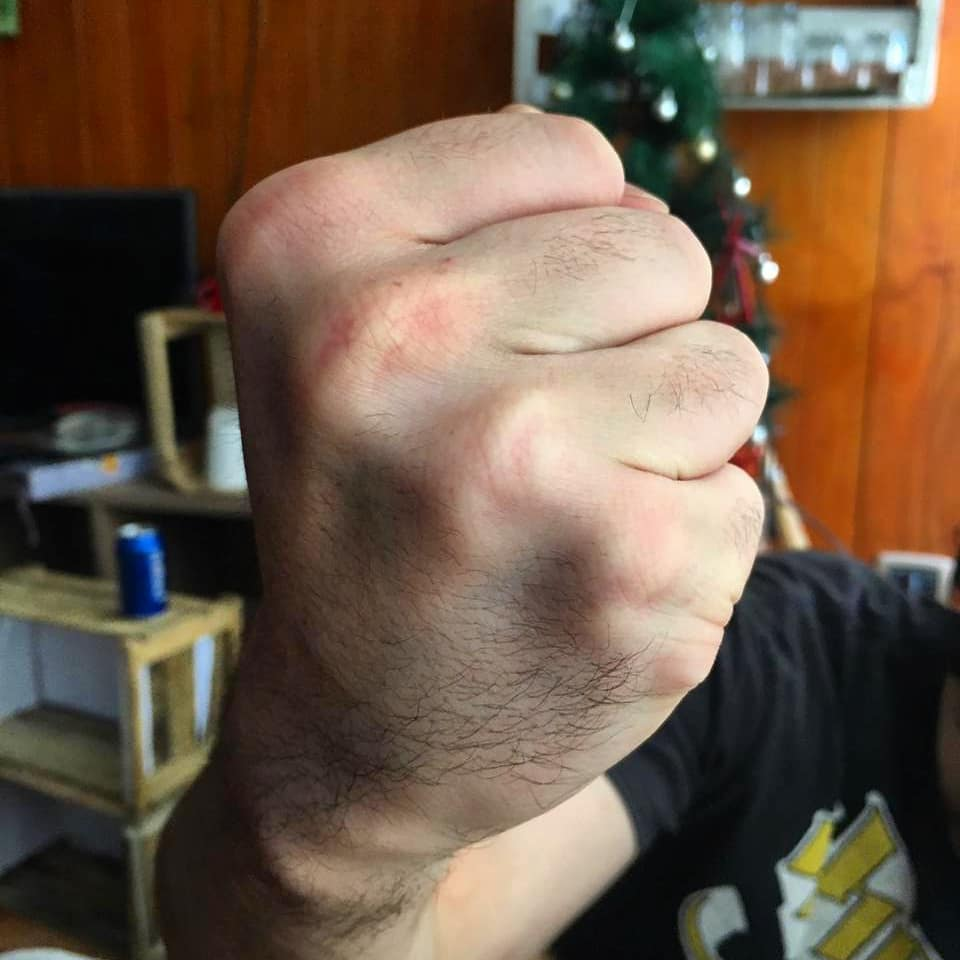hand: (249, 107, 746, 819)
